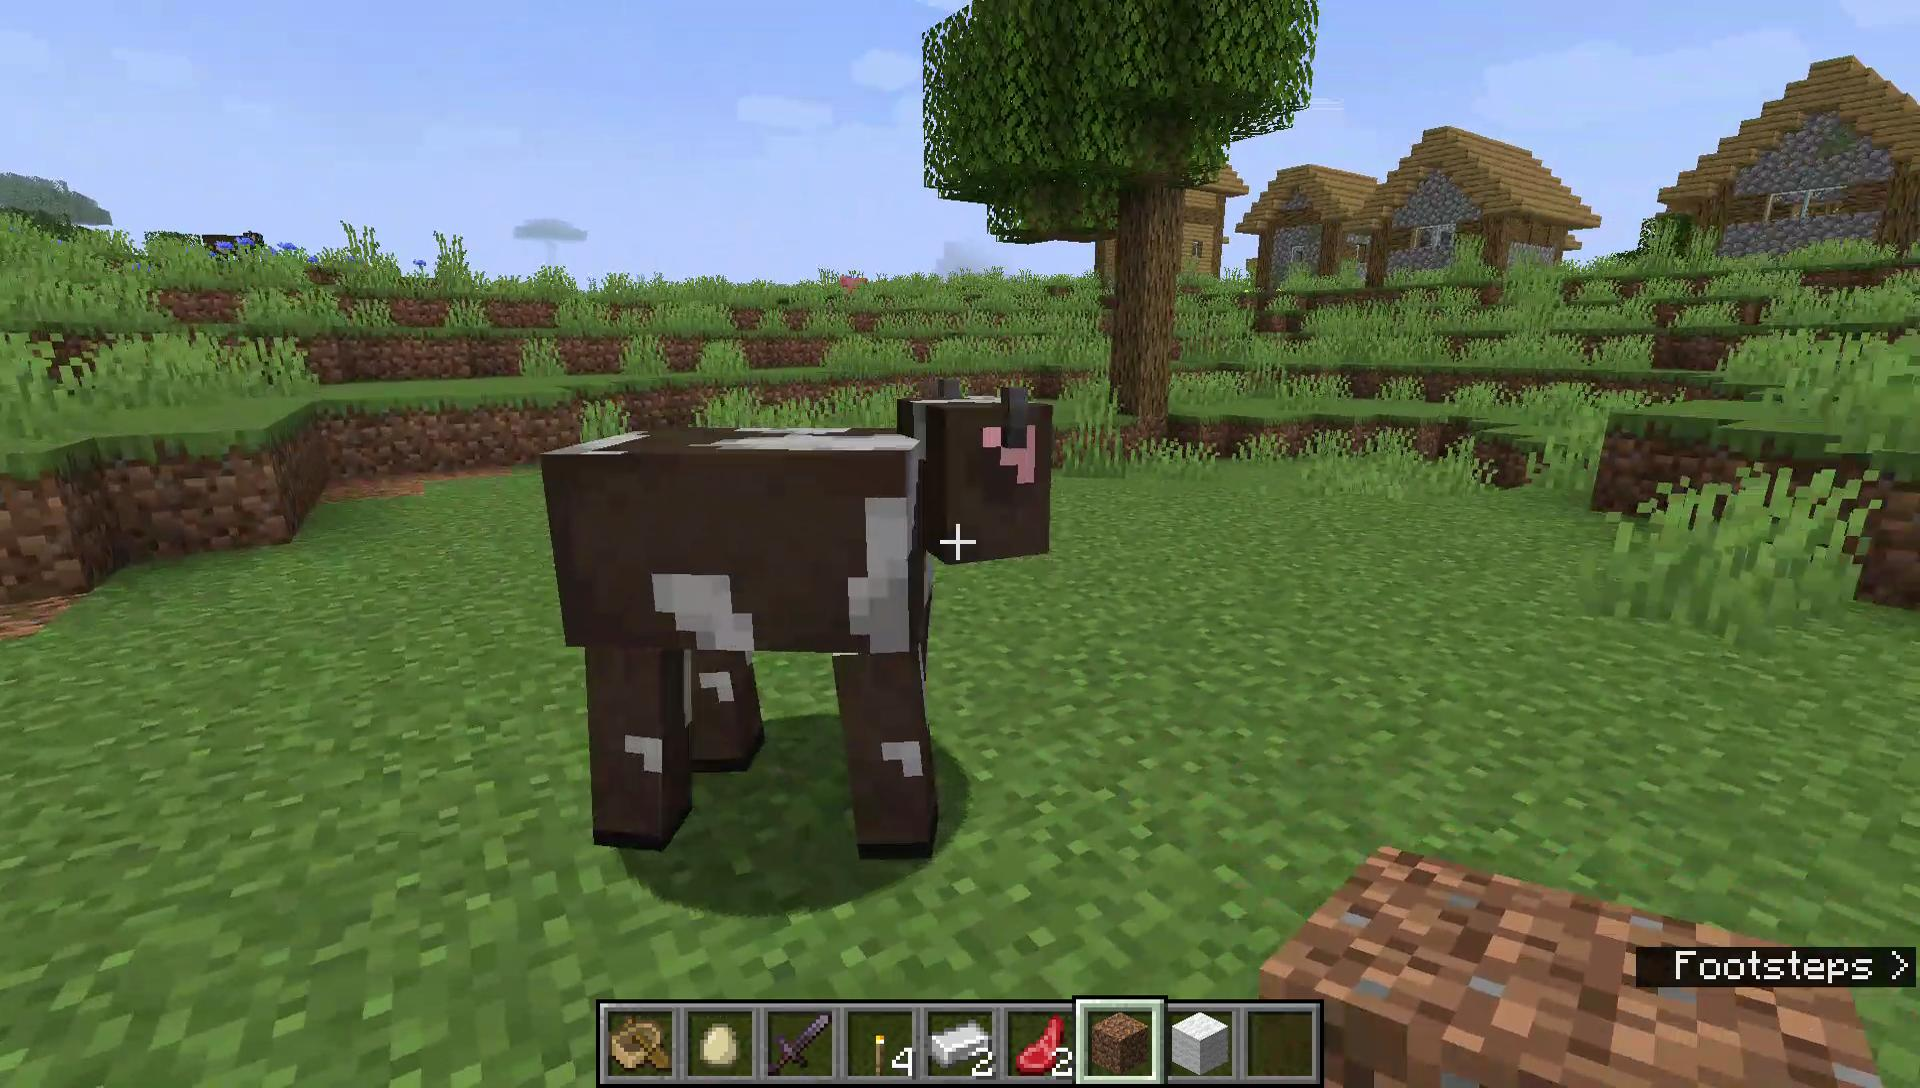cow: (517, 364, 1063, 870)
